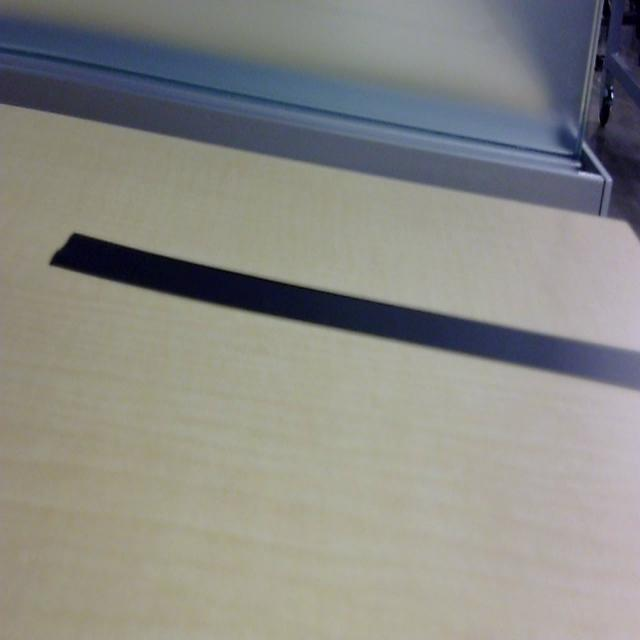tape: (34, 201, 640, 413)
